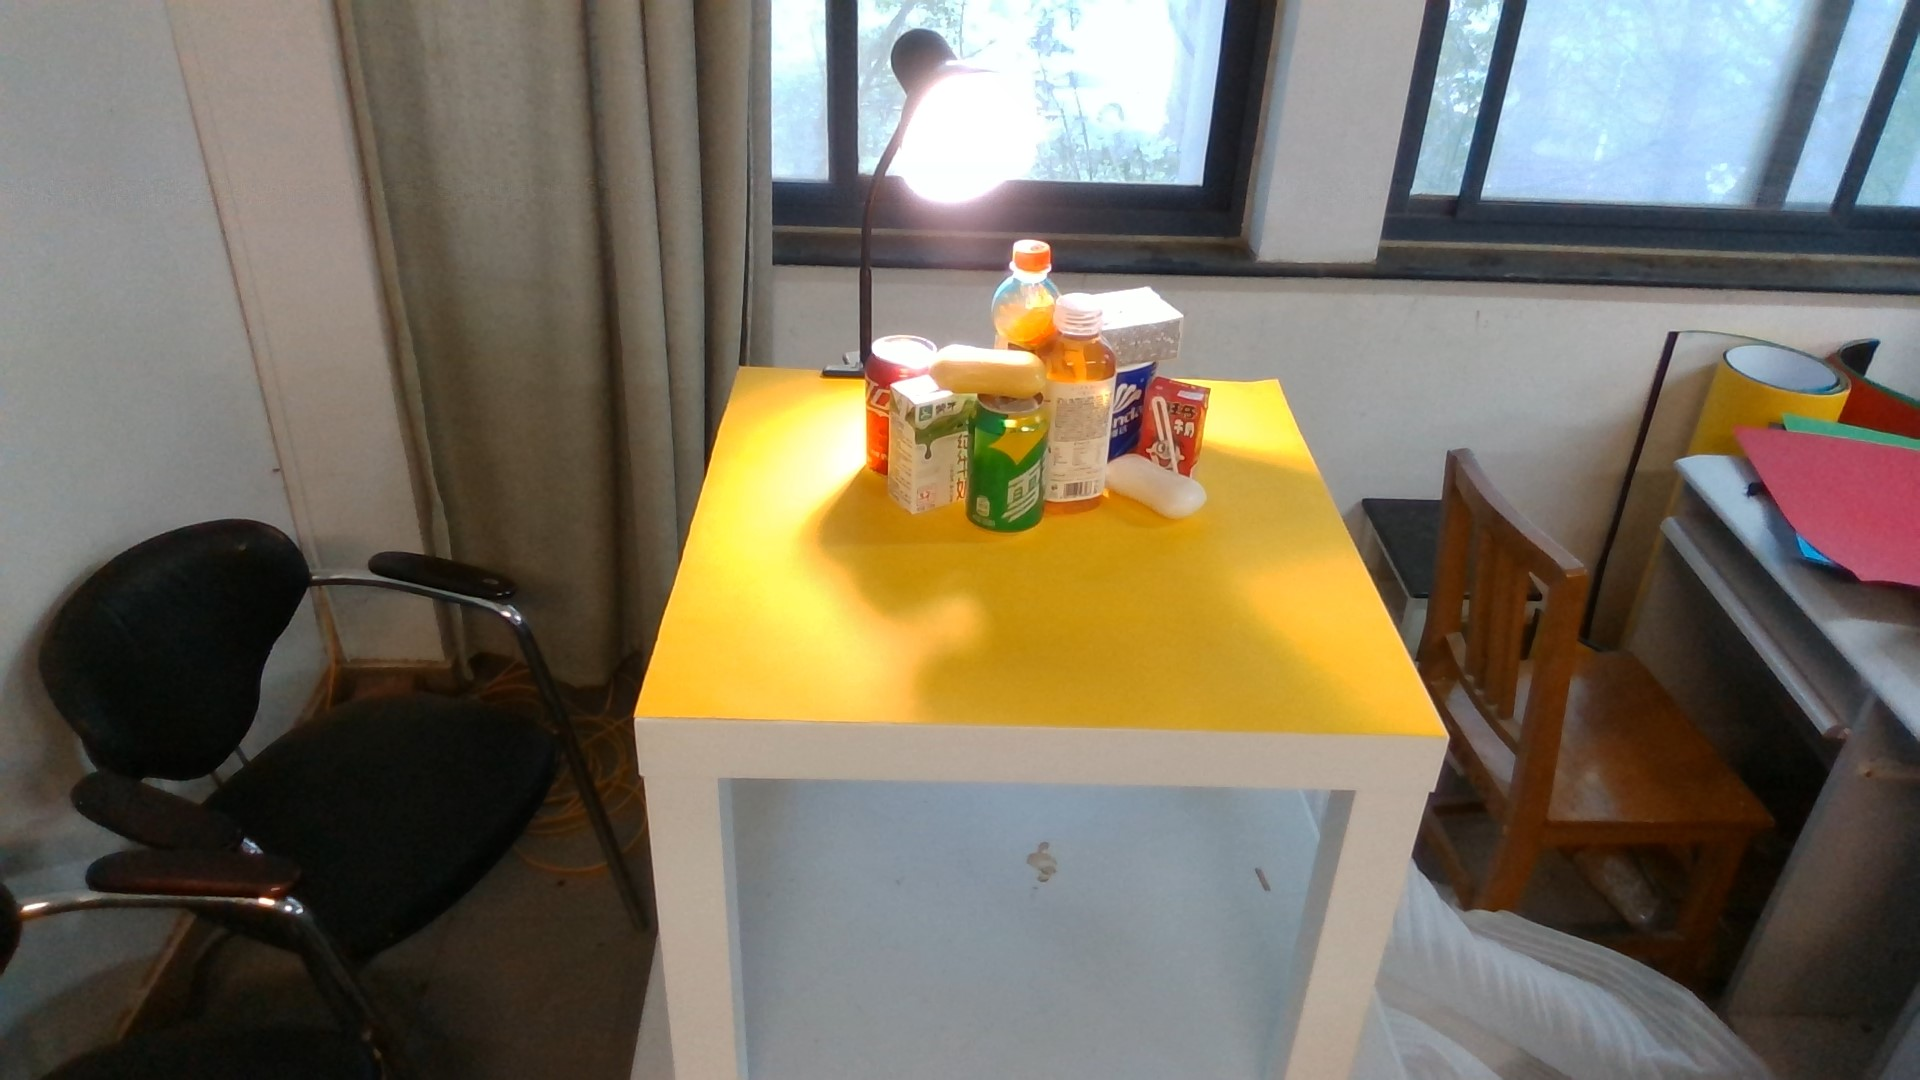BB003: (1108, 454, 1208, 520), (930, 344, 1047, 396)
BB009: (886, 389, 967, 516)
BB012: (1138, 381, 1209, 448)
BB013: (1108, 282, 1184, 369)
CA002: (1113, 367, 1139, 452)
ZC001: (968, 396, 1044, 537)
ZC002: (868, 335, 887, 471)
ZC006: (986, 239, 1043, 345)
ZC012: (1050, 295, 1112, 510)
